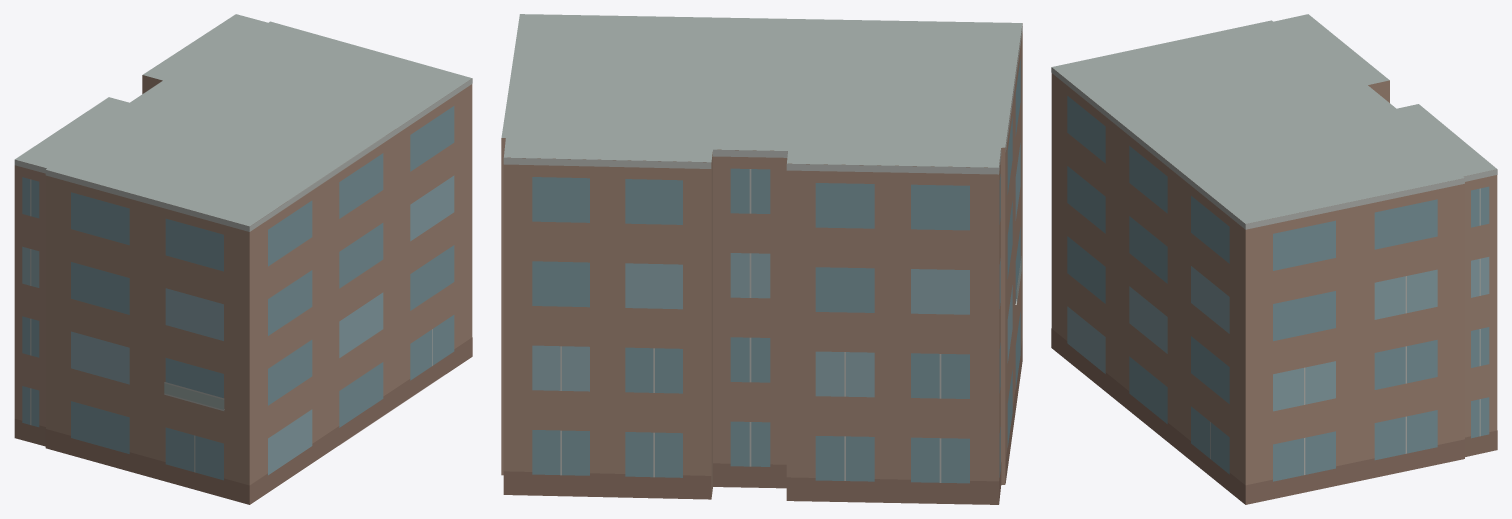
Rendered from survey-upis-32822706.glb.
3 views of the same model, side by side, from view 1: azimuth 30°, elevation 25°; view 2: azimuth 150°, elevation 25°; view 3: azimuth 270°, elevation 25° (orthographic). The views are drawn at different scales.
Visible parts, largest first — view 1: survey-upis-32822706.tmp; view 2: survey-upis-32822706.tmp; view 3: survey-upis-32822706.tmp.
Boxes of the visible parts, <box> form: survey-upis-32822706.tmp: <box>14,14,472,504</box>; survey-upis-32822706.tmp: <box>501,14,1022,504</box>; survey-upis-32822706.tmp: <box>1051,14,1497,504</box>.
Bounding box in the file's own units: 19.25 × 12 × 17.27.
